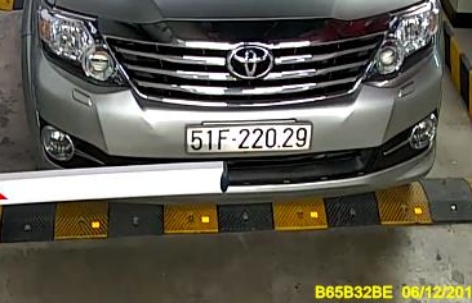plate: (183, 117, 315, 156)
